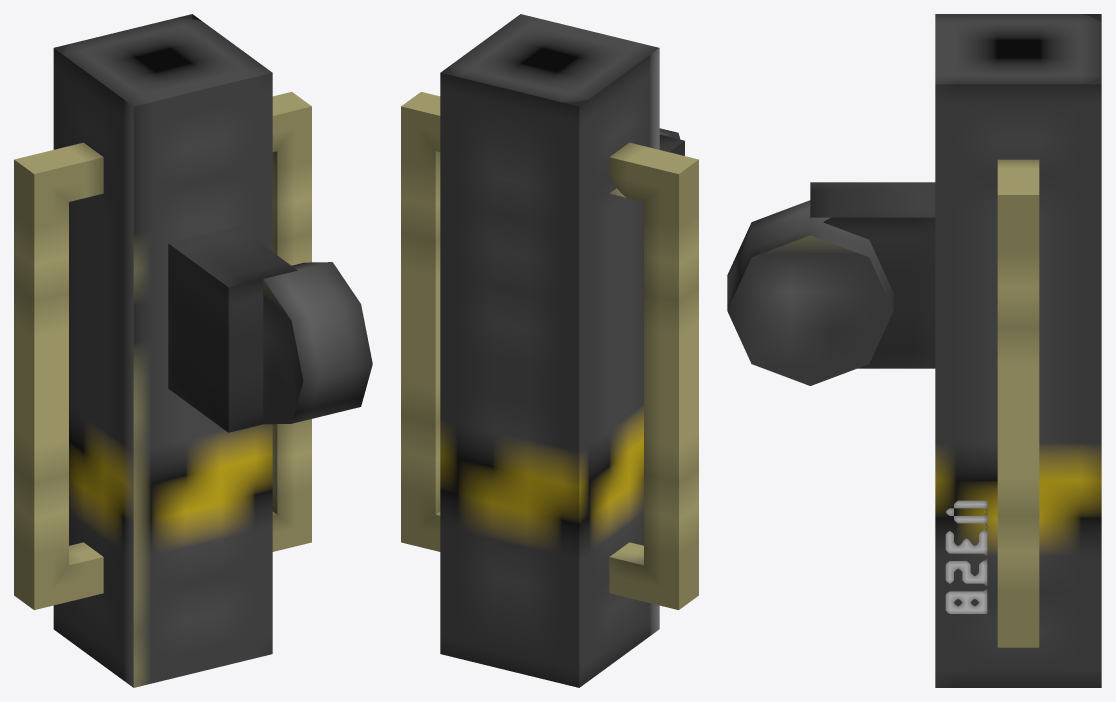
The model's file is precass_head1.obj.
3 renders of one model, left to right at view 1: azimuth 30°, elevation 25°; view 2: azimuth 150°, elevation 25°; view 3: azimuth 270°, elevation 25°, orthographic. The views are drawn at different scales.
Visible parts, largest first — view 1: Head1; view 2: Head1; view 3: Head1.
Part boxes in pixels (x1,y1,x2,y2): Head1: (14,14,372,687); Head1: (401,14,698,687); Head1: (727,14,1101,687).
Size of the model in its own units: 0.5 by 1 by 0.5625.
